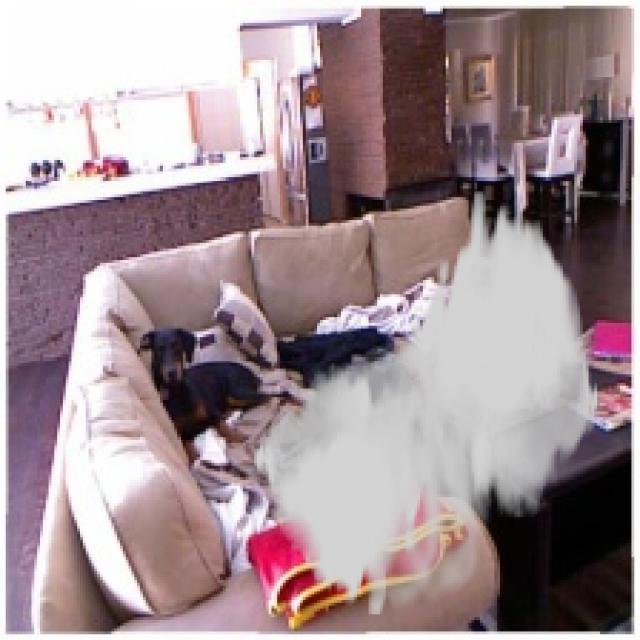Smoke: (251, 192, 600, 617)
